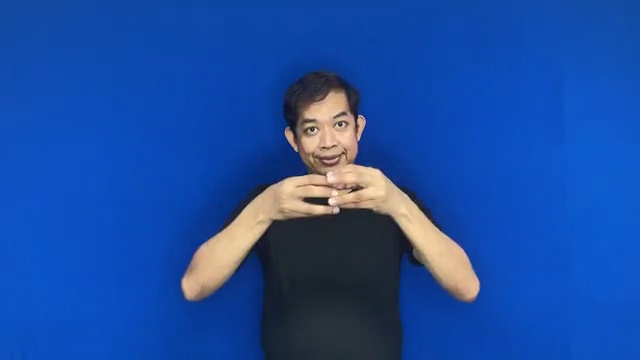egg: (261, 157, 408, 233)
